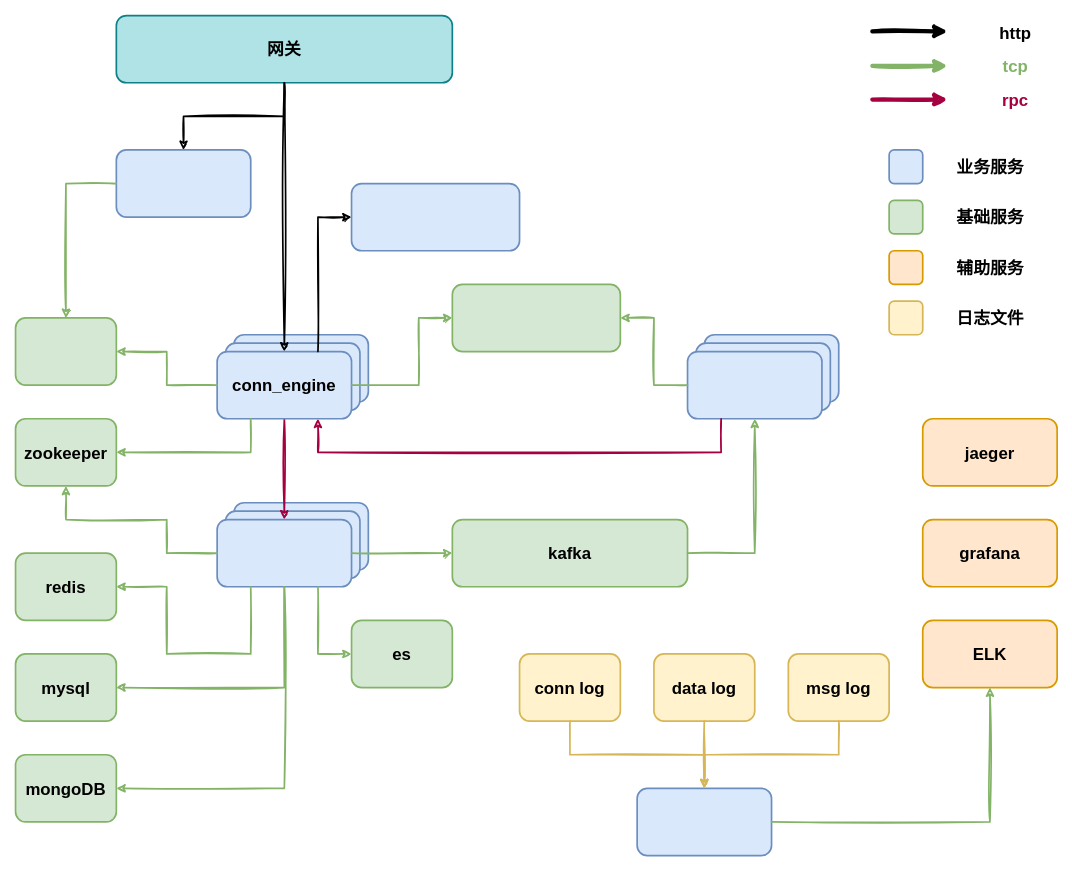
The diagram is 1072 pixels wide and 870 high, and some of its shapes have lost their labels. Here are the shapes that lost their labels. From the top down, the centre of each, then its label:
At point (183, 183): "user_center".
At point (435, 216): "chatGPT_server".
At point (536, 317): "connFD map".
At point (65, 351): "sessionDB".
At point (754, 384): "msg_engine".
At point (284, 552): "data_engine".
At point (704, 821): "log_transfer".
